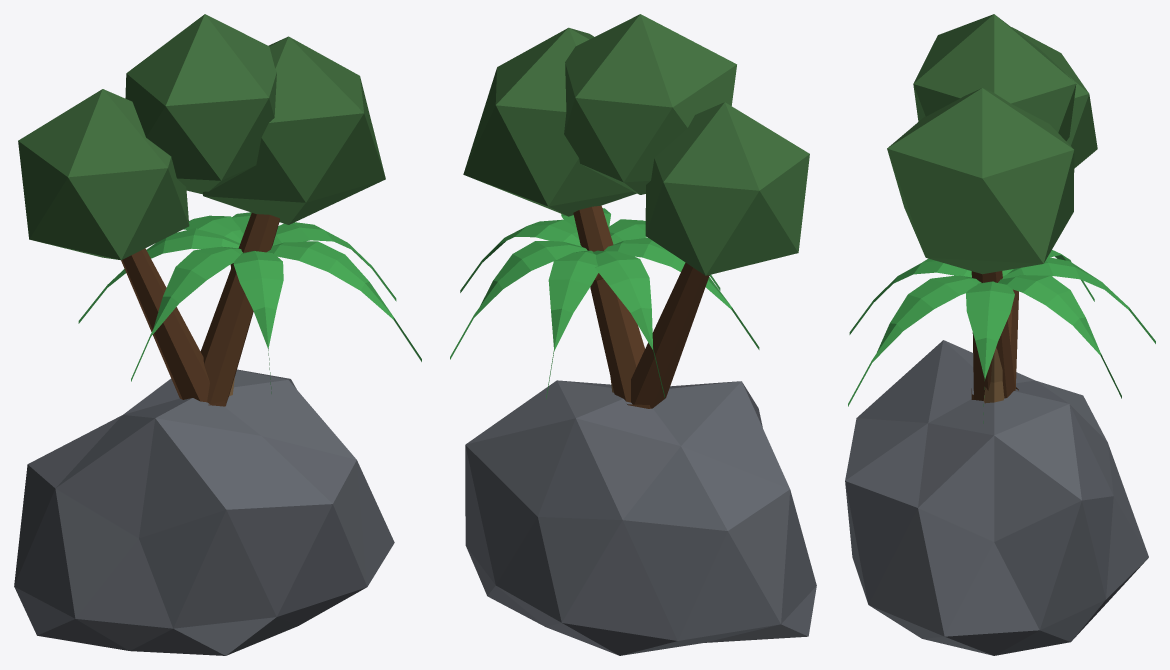
Rendered from playa.glb.
3 views of the same model, side by side, from view 1: azimuth 30°, elevation 25°; view 2: azimuth 150°, elevation 25°; view 3: azimuth 270°, elevation 25° (orthographic).
Visible parts, largest first — view 1: roca, arbol, palmera; view 2: roca, arbol, palmera; view 3: roca, arbol, palmera.
Boxes of the visible parts, bbox=[...] form: roca: bbox=[14, 369, 394, 655]; arbol: bbox=[18, 14, 385, 406]; palmera: bbox=[78, 212, 421, 396]; roca: bbox=[465, 380, 816, 655]; arbol: bbox=[463, 14, 809, 408]; palmera: bbox=[450, 208, 759, 398]; roca: bbox=[845, 340, 1148, 655]; arbol: bbox=[887, 14, 1097, 400]; palmera: bbox=[848, 250, 1155, 423].
Size of the model in its own units: 6.83 by 10.72 by 5.27.
